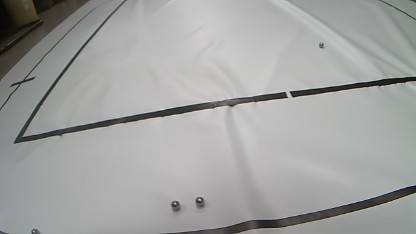ironball: (195, 196, 205, 208), (170, 200, 180, 211), (31, 229, 40, 234), (318, 42, 324, 48)
